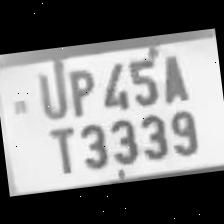3: (73, 117, 111, 172), (102, 112, 140, 166), (134, 106, 170, 162)
4: (90, 56, 130, 112)
5: (121, 52, 159, 107)
9: (164, 102, 202, 157)
A: (154, 48, 192, 105)
P: (61, 60, 99, 119)
T: (38, 120, 80, 177)
U: (30, 61, 70, 122)
